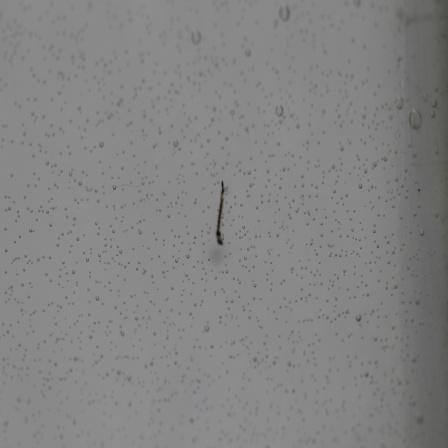Jentik-Nyamuk: (211, 177, 229, 252)
